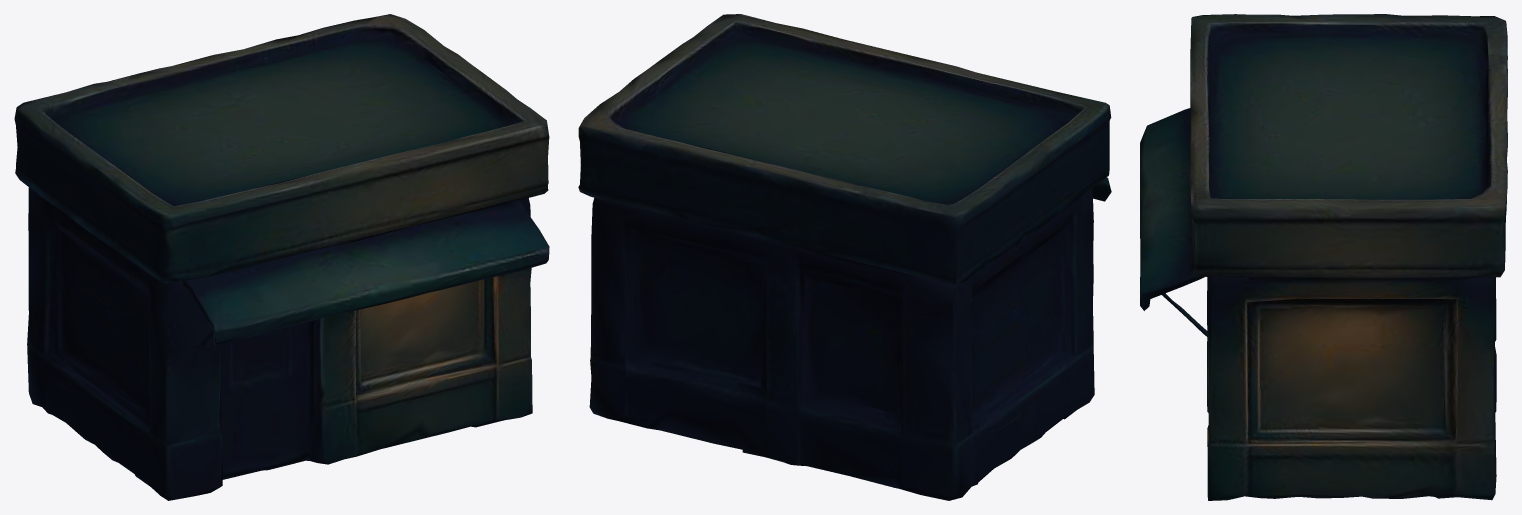
Rendered from sklep.glb.
The picture shows the model from 3 angles, left to right: view 1: azimuth 30°, elevation 25°; view 2: azimuth 150°, elevation 25°; view 3: azimuth 270°, elevation 25°; orthographic projection. The views are drawn at different scales.
Parts seen in each view (by area): view 1: tripo_node_1bb115e1-783a-4b1e-8301-8cc4ed84e9fc; view 2: tripo_node_1bb115e1-783a-4b1e-8301-8cc4ed84e9fc; view 3: tripo_node_1bb115e1-783a-4b1e-8301-8cc4ed84e9fc.
Part boxes in pixels (bbox=[...]): tripo_node_1bb115e1-783a-4b1e-8301-8cc4ed84e9fc: bbox=[14, 14, 549, 500]; tripo_node_1bb115e1-783a-4b1e-8301-8cc4ed84e9fc: bbox=[578, 14, 1111, 500]; tripo_node_1bb115e1-783a-4b1e-8301-8cc4ed84e9fc: bbox=[1140, 14, 1507, 500].
Size of the model in its own units: 1 by 0.7262 by 0.8024.
1 material, 1 textured.
